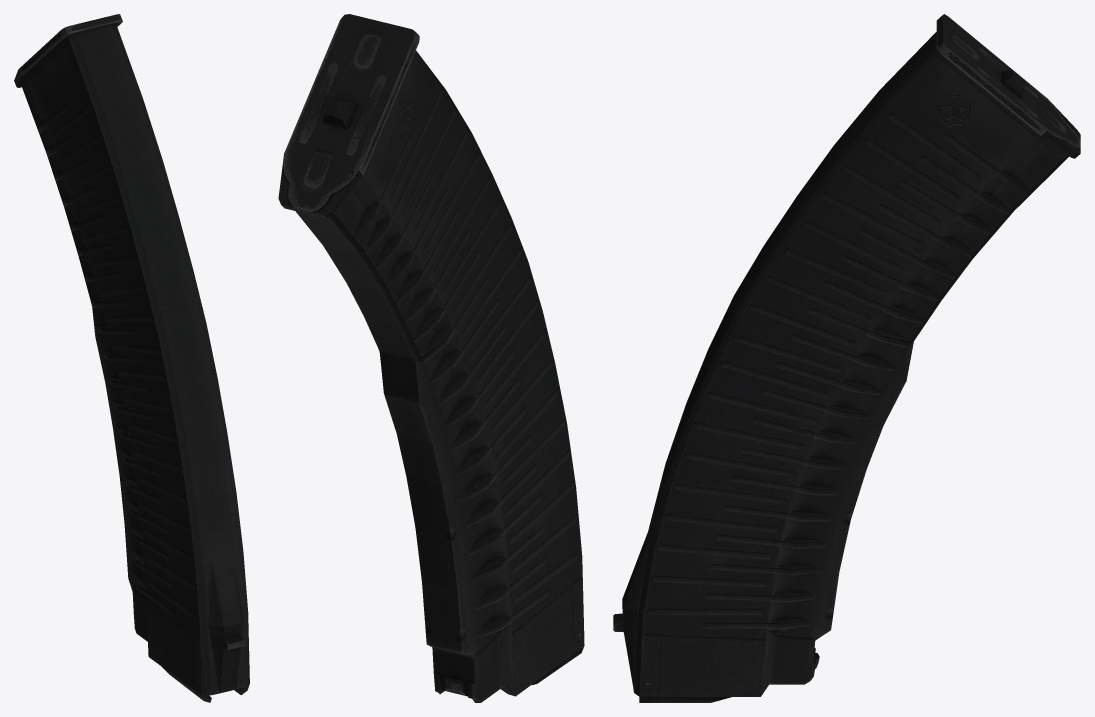
3 renders of one model, left to right at view 1: azimuth 30°, elevation 25°; view 2: azimuth 150°, elevation 25°; view 3: azimuth 270°, elevation 25°, orthographic. The views are drawn at different scales.
Parts seen in each view (by area): view 1: TW_55d481904bdc2d8c2f8b456a_PZ_Import; view 2: TW_55d481904bdc2d8c2f8b456a_PZ_Import; view 3: TW_55d481904bdc2d8c2f8b456a_PZ_Import.
Boxes of the visible parts, bbox=[...] form: TW_55d481904bdc2d8c2f8b456a_PZ_Import: bbox=[14, 14, 249, 702]; TW_55d481904bdc2d8c2f8b456a_PZ_Import: bbox=[278, 14, 584, 702]; TW_55d481904bdc2d8c2f8b456a_PZ_Import: bbox=[613, 14, 1080, 702].
Bounding box in the file's own units: 0.016 × 0.0973 × 0.1529.
1 material, 1 textured.
